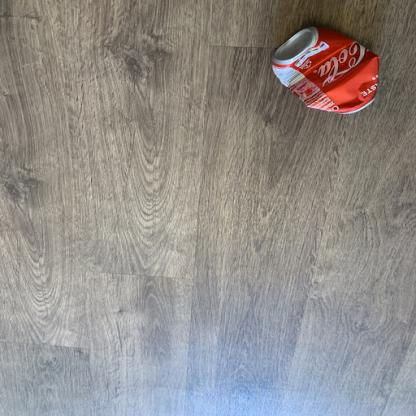trash: (262, 16, 396, 124)
